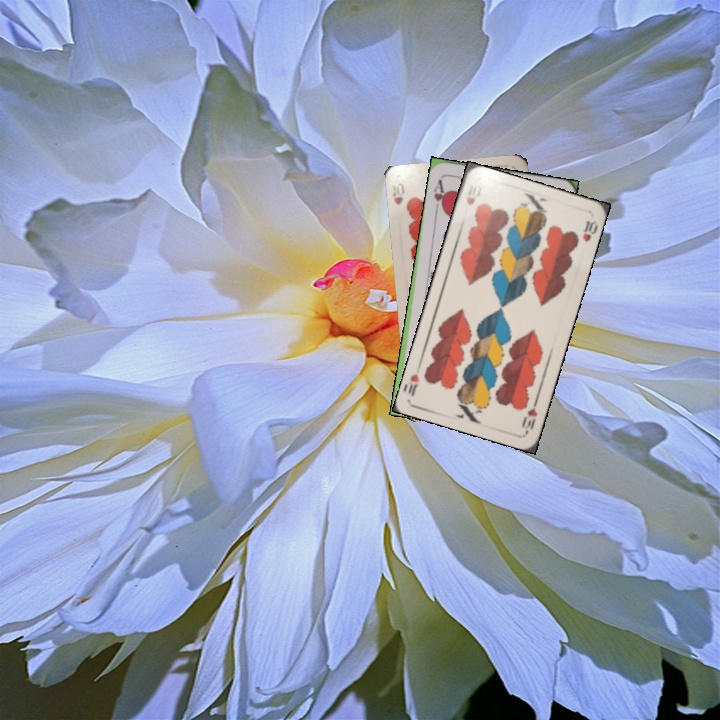H10: (517, 395, 541, 434), (387, 179, 407, 207), (462, 180, 478, 207)
HA: (430, 174, 449, 215)
